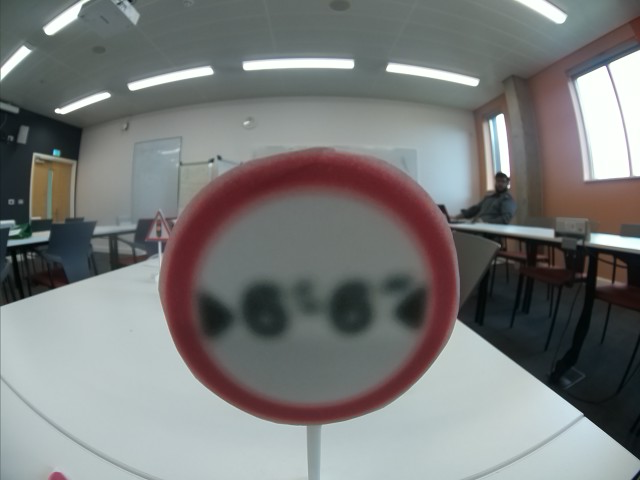6ft6: (158, 150, 461, 426)
Traffic lights: (144, 209, 173, 240)
